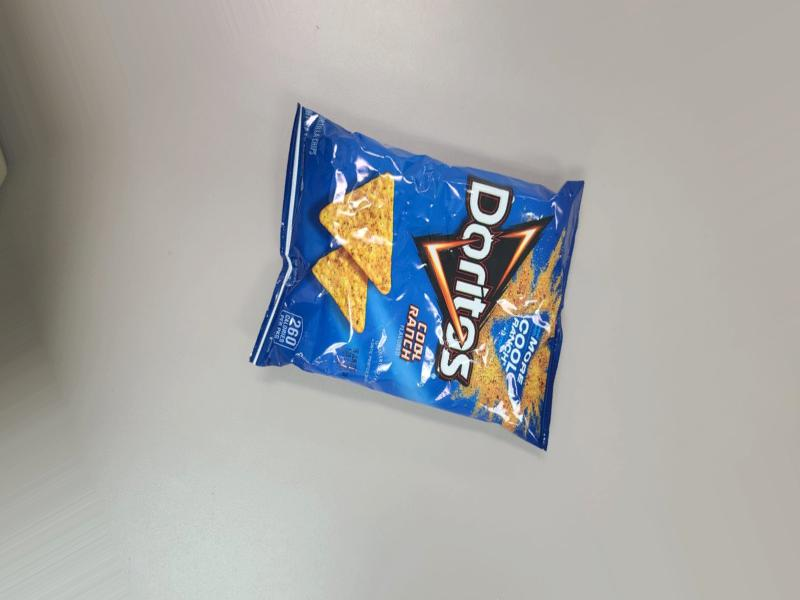doritos: (267, 80, 592, 458)
